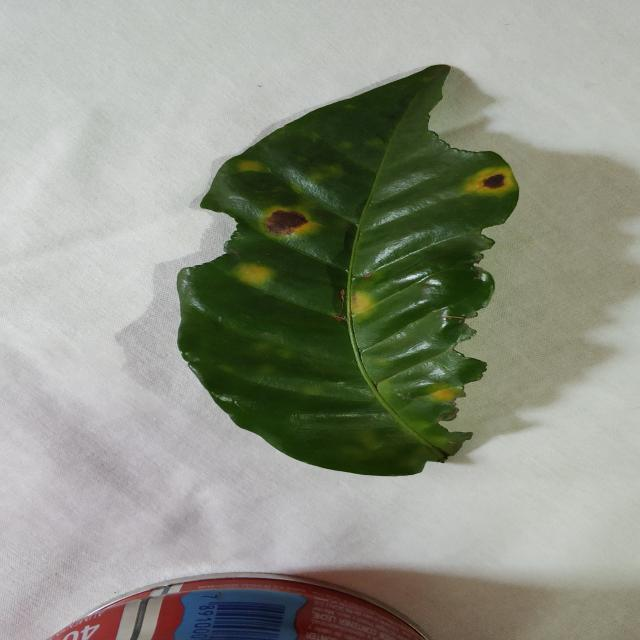Enfermedad-Roya: (176, 64, 521, 480)
